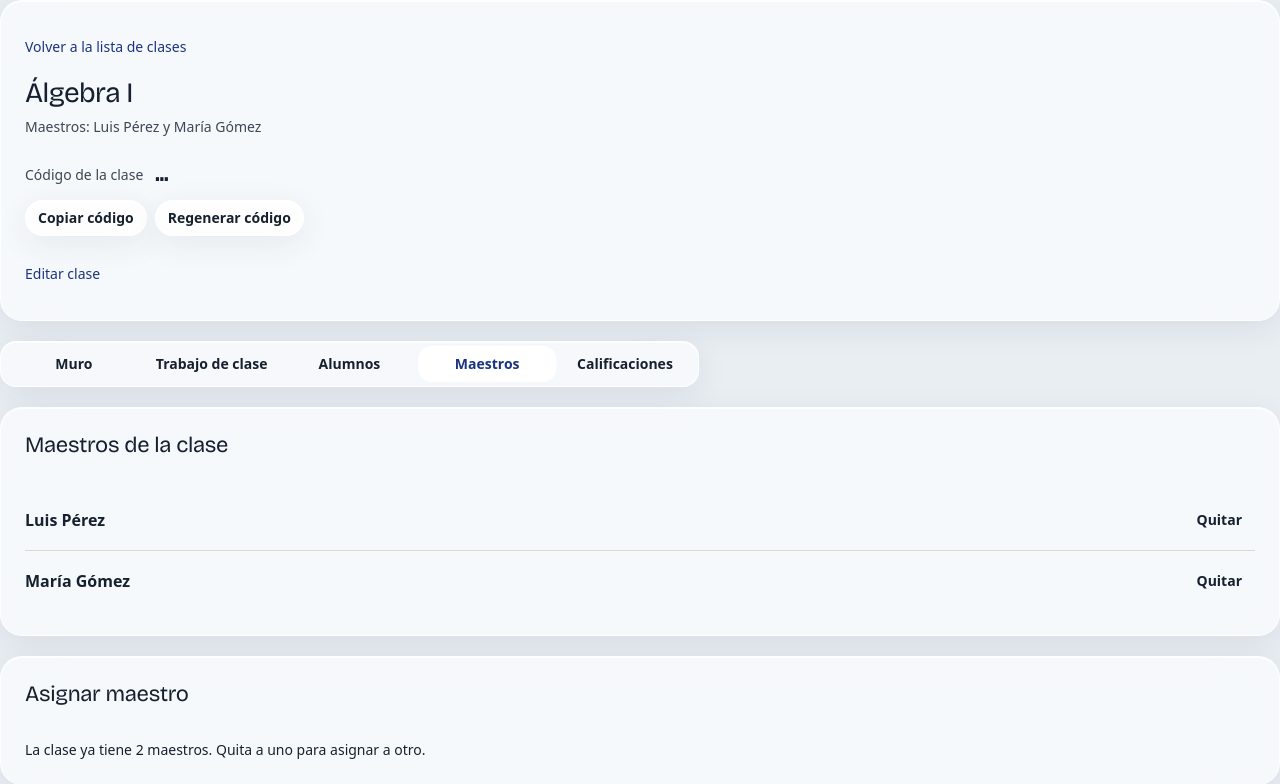
Test case: ataque CLASES-02c r2: la ventana entre el 200 y la recarga, en los hermanos de T-02 › «Sí, quitar» (maestros), segundo clic a 0 ms tras el repintado (botón ya en espera): una sola petición, un solo aviso, el botón en espera (aria-busy, sin disabl
Click the button named "Quitar Luis Pérez" at (1219, 520), box [1184,502,1255,538]
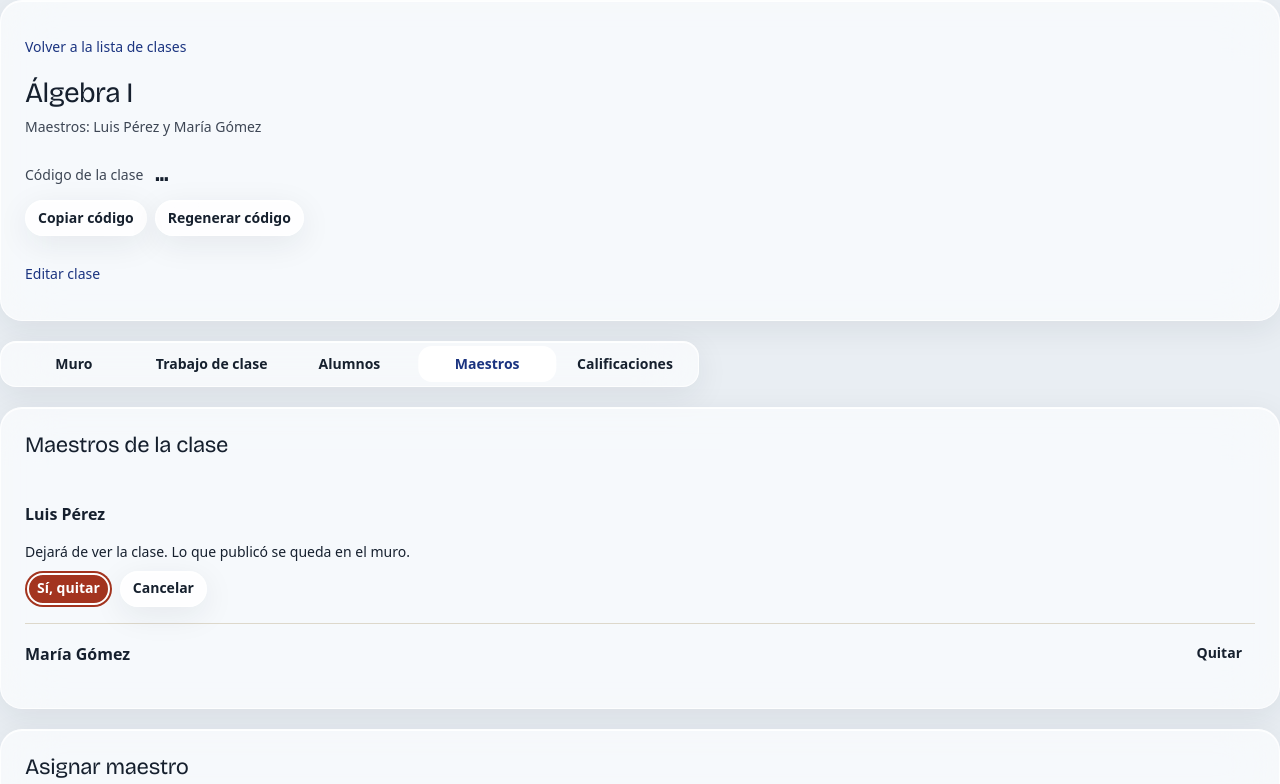
Click the button named "Sí, quitar Luis Pérez" at (68, 589), box [25,571,112,607]
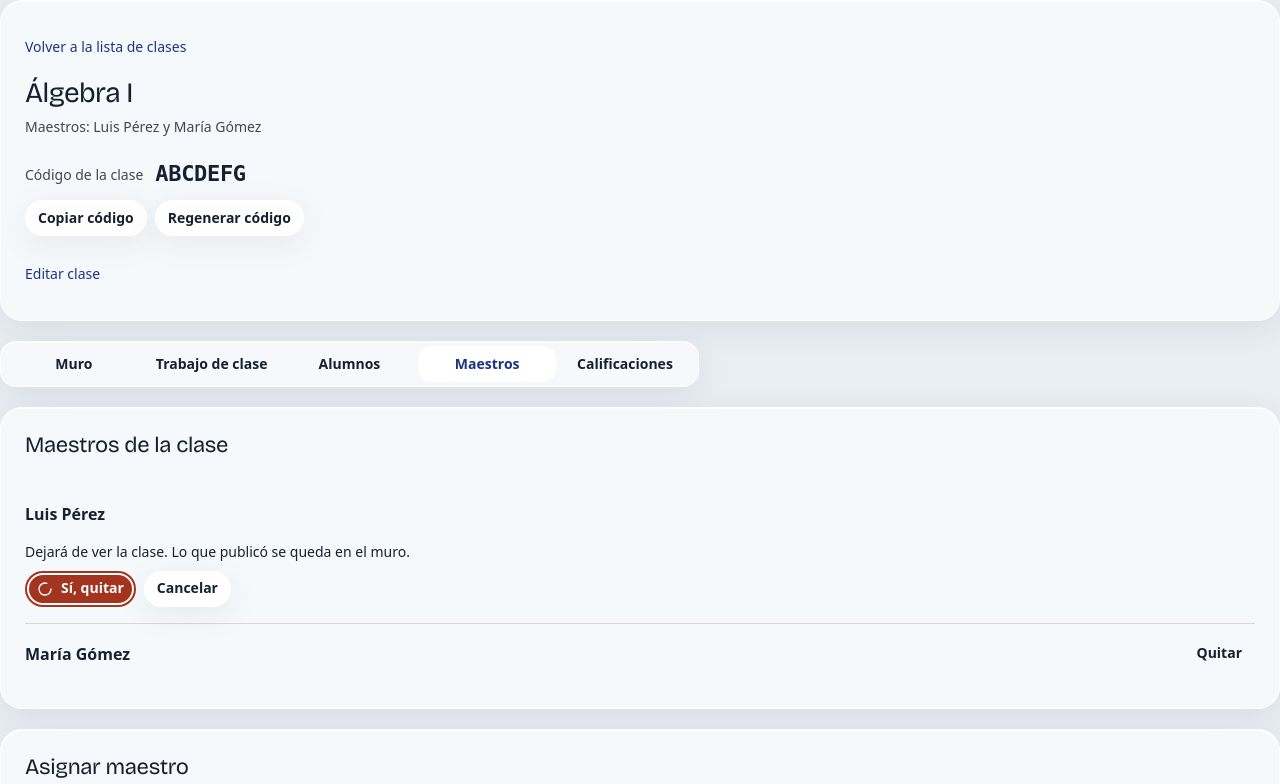
Result: the button named "Sí, quitar Luis Pérez" has attribute aria-busy="true"
Click the button named "Sí, quitar Luis Pérez" at (80, 589), box [25,571,136,607]
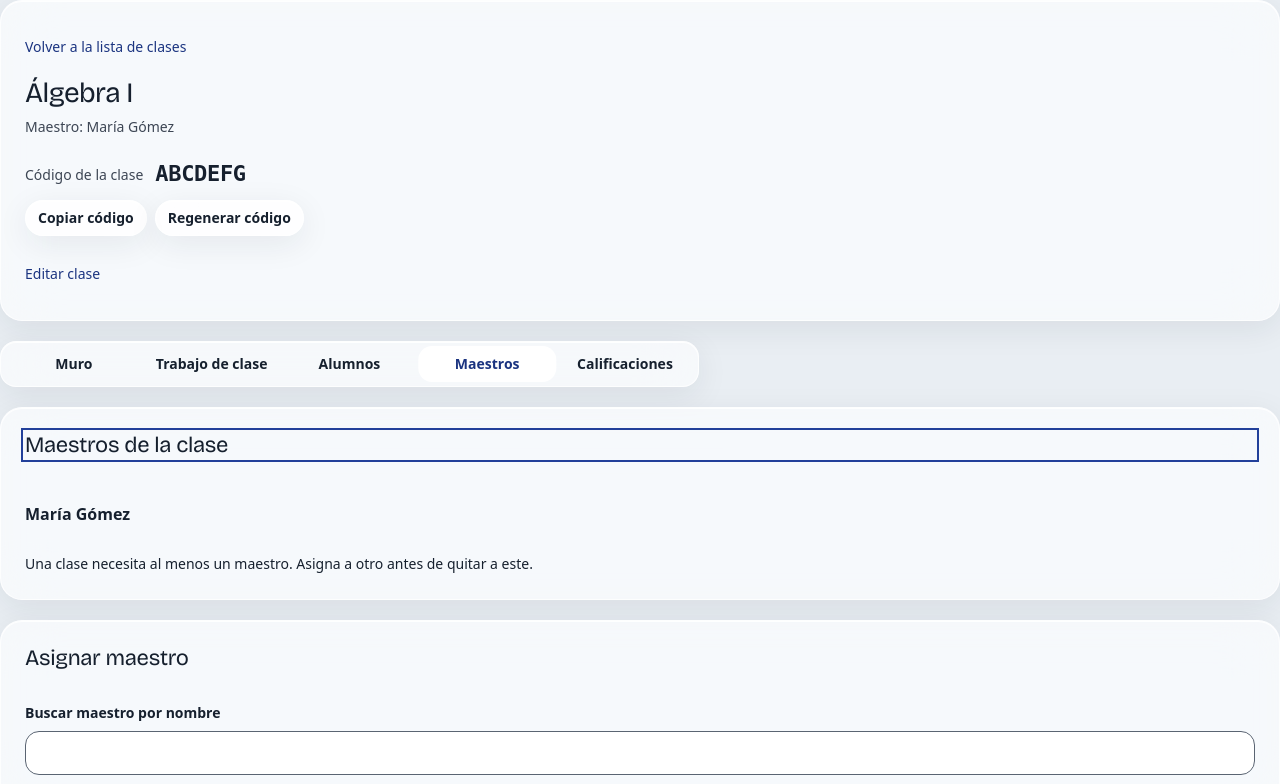
Result: the text "Una clase necesita al menos un maestro. Asigna a otro antes de quitar a este." is shown at [25,554,533,573]
